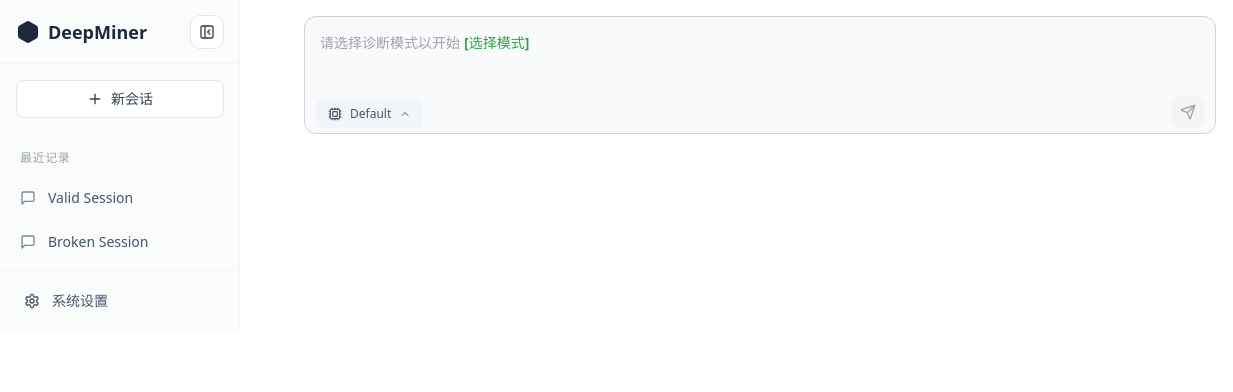
Test: History Loading & Error Handling › should show loading state when clicking history
Click the text "Valid Session": (91, 198) top-left (48, 188), bottom-right (133, 208)
Wait 400 ms
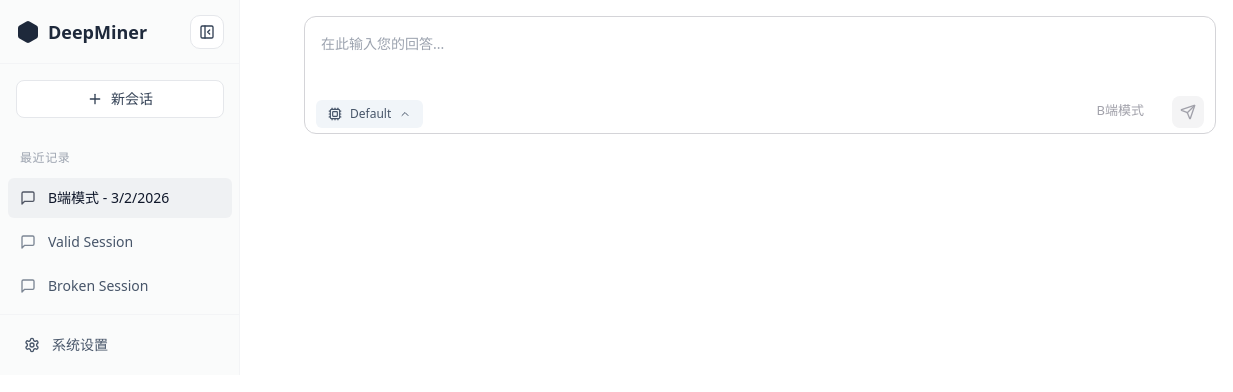
Now the text box with placeholder "在此输入您的回答..." is shown, box top-left (304, 16), bottom-right (1216, 134)
